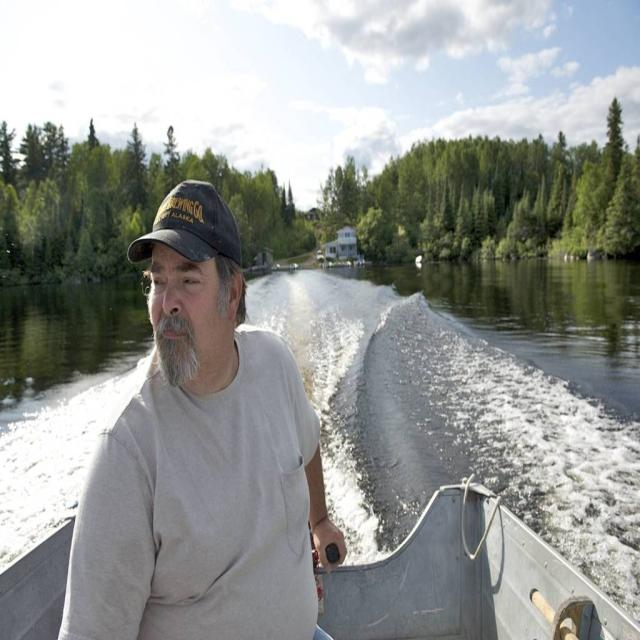Boat: (0, 470, 640, 640)
